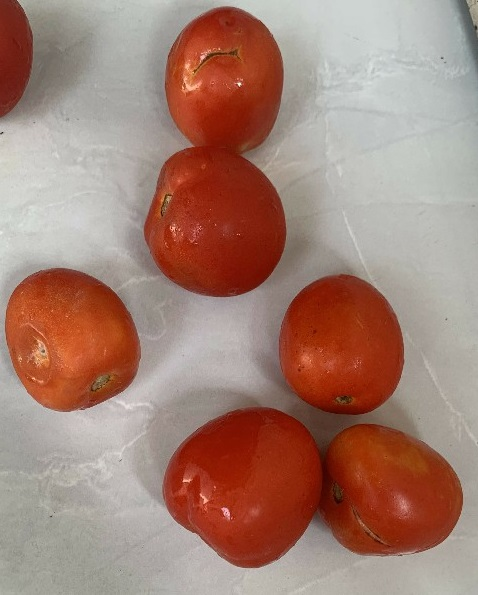NG: (2, 264, 145, 414), (325, 419, 468, 559), (162, 3, 290, 152)
OK: (159, 403, 321, 575), (143, 146, 289, 300), (276, 272, 409, 418)
